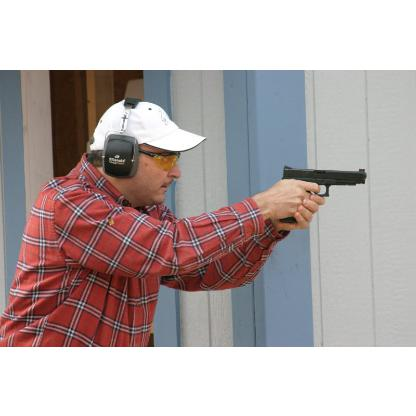gun: (276, 166, 366, 226)
